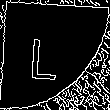L_N: (38, 29, 72, 81)
